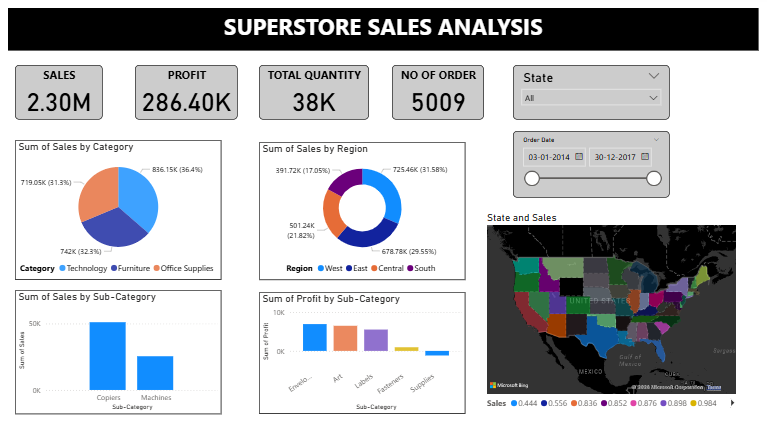

What the dashboard file says about the page in this screenshot:
{"tool":"powerbi","page":{"name":"PROJECT 1","canvas":[1280,720],"ordinal":20},"visuals":[{"type":"textbox","title":"SUPERSTORE SALES ANALYSIS","box":[14.3,12.9,1251.4,71.4],"z":0},{"type":"card","title":"SALES ","fields":{"Values":["Sum(Orders.Sales)"]},"box":[26.9,107.7,146,90.7],"z":1000},{"type":"card","title":" TOTAL QUANTITY","fields":{"Values":["Sum(Orders.Quantity)"]},"box":[433.7,107.7,182.8,90.7],"z":2000},{"type":"card","title":"NO OF ORDER","fields":{"Values":["Count(Orders.Order ID)"]},"box":[654.8,107.7,153.1,90.7],"z":3000},{"type":"card","title":"PROFIT","fields":{"Values":["Sum(Orders.Profit)"]},"box":[226.8,107.7,171.5,90.7],"z":4000},{"type":"slicer","fields":{"Values":["Orders.Order Date"]},"box":[857.5,218.3,260.8,110.6],"z":5000},{"type":"slicer","fields":{"Values":["Orders.State"]},"box":[857.5,107.7,260.8,90.7],"z":6000},{"type":"pieChart","fields":{"Category":["Orders.Category"],"Y":["Sum(Orders.Sales)"]},"box":[26.9,233.5,344.4,233.5],"z":7000},{"type":"donutChart","fields":{"Category":["Orders.Region"],"Y":["Sum(Orders.Sales)"]},"box":[433.4,236.9,344.4,230.1],"z":8000},{"type":"columnChart","fields":{"Category":["Orders.Sub-Category"],"Y":["Sum(Orders.Sales)"]},"box":[26.9,483.8,344.4,206.6],"z":9000},{"type":"columnChart","fields":{"Y":["Sum(Orders.Profit)"],"Category":["Orders.Sub-Category"]},"box":[433.4,487.1,344.4,203.3],"z":10000},{"type":"filledMap","fields":{"Category":["Orders.State","Orders.City"],"Series":["Orders.Sales"]},"box":[808,351.1,425,339.3],"z":11000}]}

Visuals, with their boxes in screenshot pixels (x1, y1, x2, y2), scaled from the page's 1280x720 canvas onto the 767x432 screenshot:
"SUPERSTORE SALES ANALYSIS" textbox: [x1=9, y1=8, x2=758, y2=51]
"SALES " card: [x1=16, y1=65, x2=104, y2=119]
" TOTAL QUANTITY" card: [x1=260, y1=65, x2=369, y2=119]
"NO OF ORDER" card: [x1=392, y1=65, x2=484, y2=119]
"PROFIT" card: [x1=136, y1=65, x2=239, y2=119]
slicer - Orders.Order Date: [x1=514, y1=131, x2=670, y2=197]
slicer - Orders.State: [x1=514, y1=65, x2=670, y2=119]
pieChart - Orders.Category x Sum(Orders.Sales): [x1=16, y1=140, x2=222, y2=280]
donutChart - Orders.Region x Sum(Orders.Sales): [x1=260, y1=142, x2=466, y2=280]
columnChart - Orders.Sub-Category x Sum(Orders.Sales): [x1=16, y1=290, x2=222, y2=414]
columnChart - Sum(Orders.Profit) x Orders.Sub-Category: [x1=260, y1=292, x2=466, y2=414]
filledMap - Orders.State x Orders.City: [x1=484, y1=211, x2=739, y2=414]
